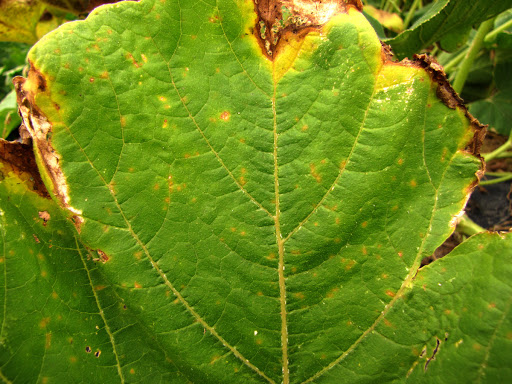downy: (16, 30, 132, 242), (238, 1, 430, 100), (434, 74, 487, 176)
